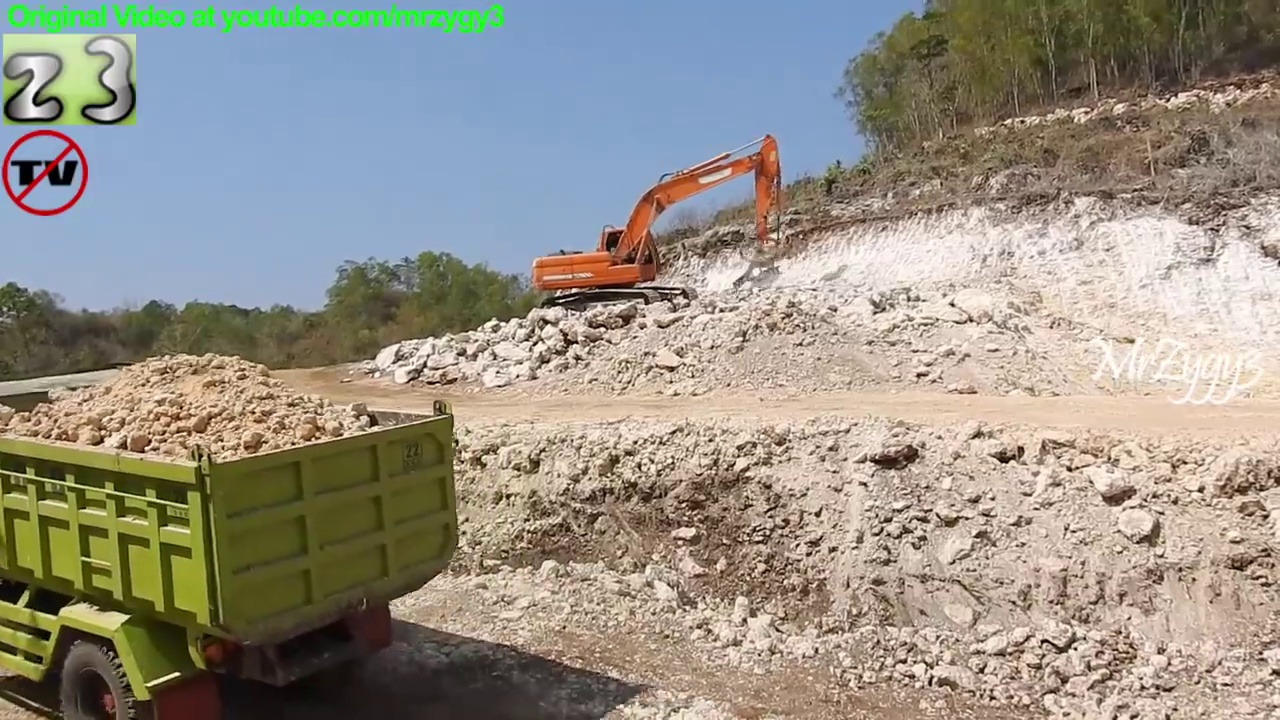excavator breaker: (530, 128, 789, 328)
truck: (1, 371, 468, 720)
